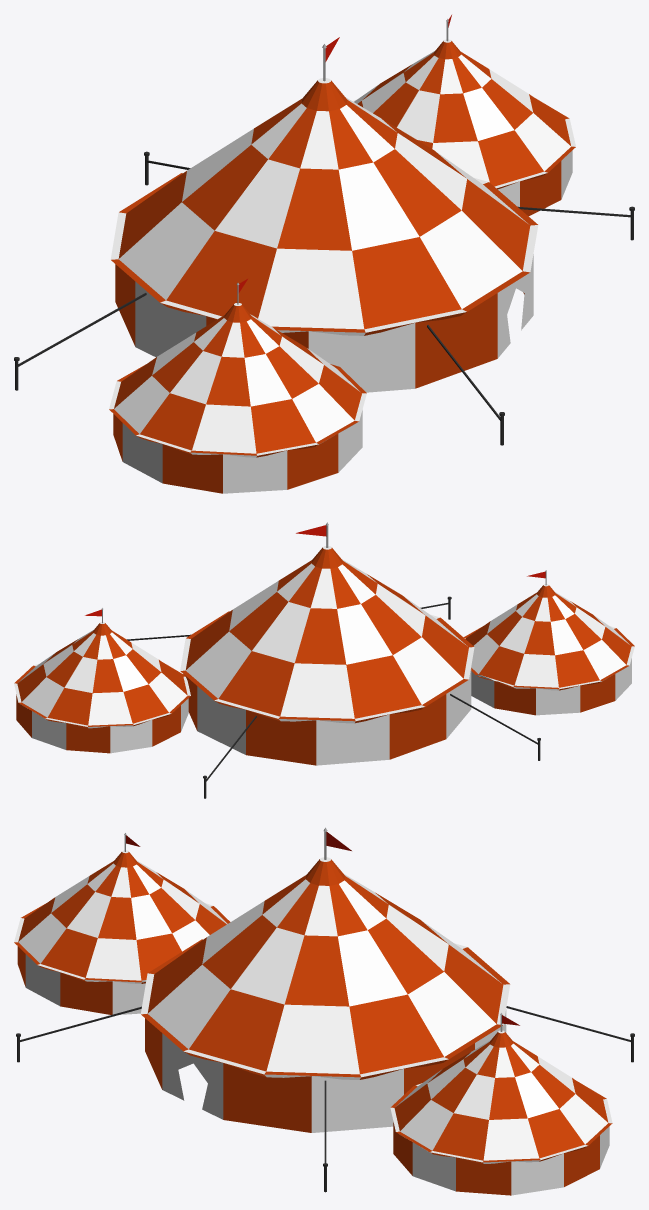
Rendered from circus.fbx.
3 views of the same model, one above another, from view 1: azimuth 30°, elevation 25°; view 2: azimuth 150°, elevation 25°; view 3: azimuth 270°, elevation 25° (orthographic). The views are drawn at different scales.
Visible parts, largest first — view 1: Cylinder.001_3, Cylinder_2, Cylinder.003_5; view 2: Cylinder.001_3, Cylinder_2, Cylinder.003_5; view 3: Cylinder.001_3, Cylinder_2, Cylinder.003_5.
Boxes of the visible parts, <box> form: Cylinder.001_3: <box>109,39,575,457</box>; Cylinder_2: <box>113,150,572,493</box>; Cylinder.003_5: <box>14,151,634,445</box>; Cylinder.001_3: <box>14,546,634,728</box>; Cylinder_2: <box>16,658,631,765</box>; Cylinder.003_5: <box>127,596,540,798</box>; Cylinder.001_3: <box>14,850,612,1163</box>; Cylinder_2: <box>17,946,609,1195</box>; Cylinder.003_5: <box>16,1006,634,1192</box>.
Size of the model in its own units: 811 by 323 by 777.
